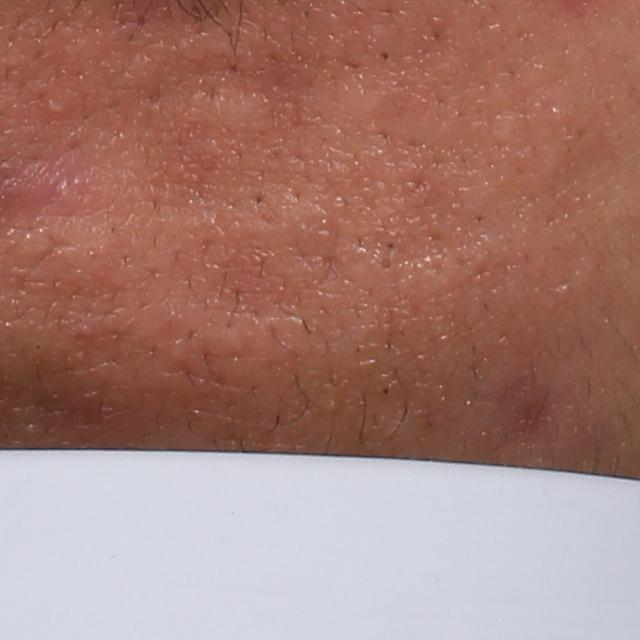hypertrophic_scar: (176, 70, 277, 135), (331, 65, 392, 125)
